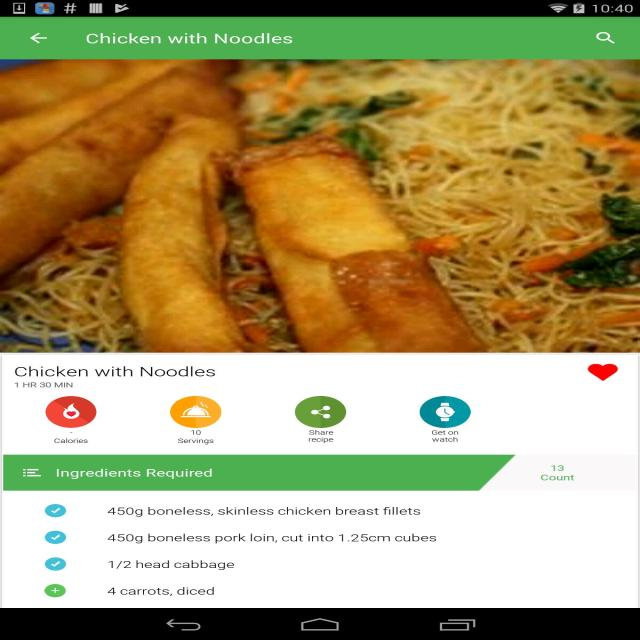button: (576, 360, 627, 386), (588, 28, 624, 46), (24, 29, 54, 50)
heading: (81, 31, 297, 47), (13, 364, 219, 379)
image: (2, 59, 640, 351), (418, 393, 472, 429), (294, 394, 349, 429), (44, 396, 98, 430), (169, 395, 222, 428)
text: (99, 502, 433, 520), (104, 530, 442, 545), (21, 466, 219, 483), (102, 554, 245, 572), (101, 583, 246, 598), (176, 429, 216, 446), (541, 465, 580, 482), (15, 379, 77, 389), (429, 430, 464, 446), (304, 429, 337, 445), (51, 436, 99, 446)
